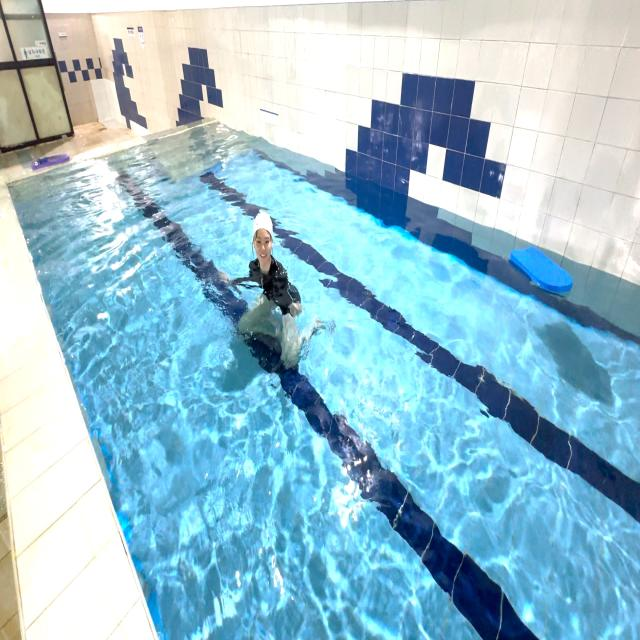Swimming: (198, 189, 339, 410)
